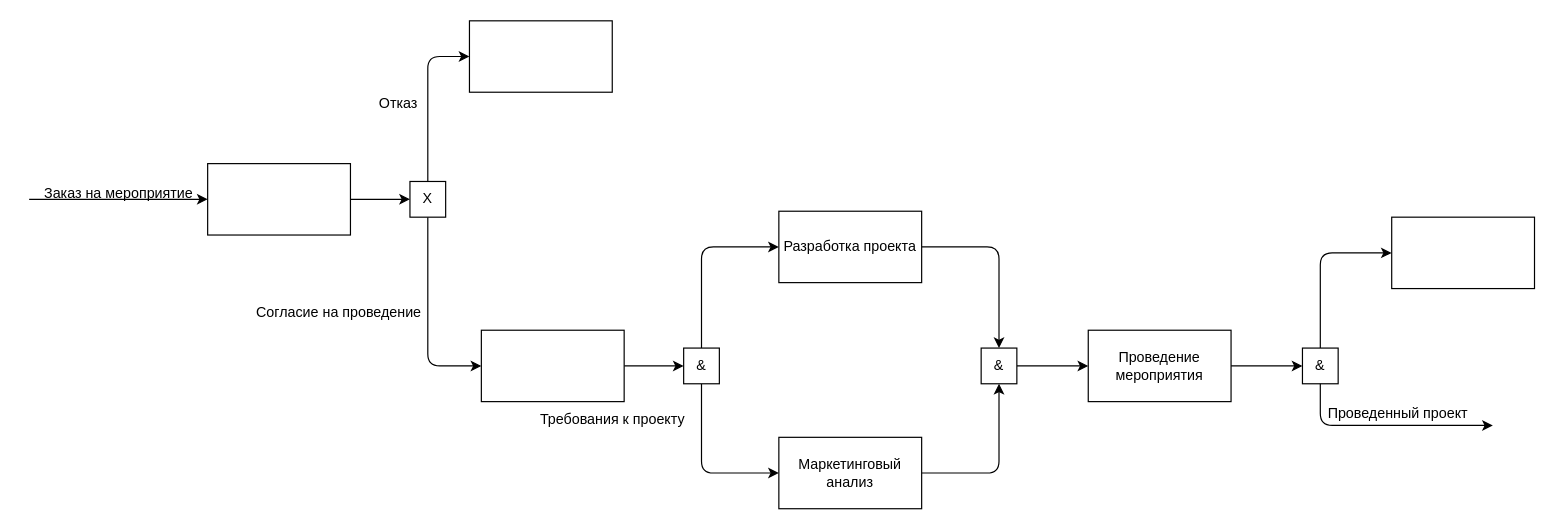
Some shapes in this 1555 by 530 pixel diagram are drawn without their labels. The shapes that lost their labels are listed below. From the top down, each one's box as (x1, y1, x2, y2) in pixels, then its label:
(468, 20, 612, 92): Удаление заявки
(206, 162, 350, 235): Прием заказа
(1391, 216, 1535, 289): Составление отчетов
(480, 329, 624, 402): Создание ТЗ и договора
